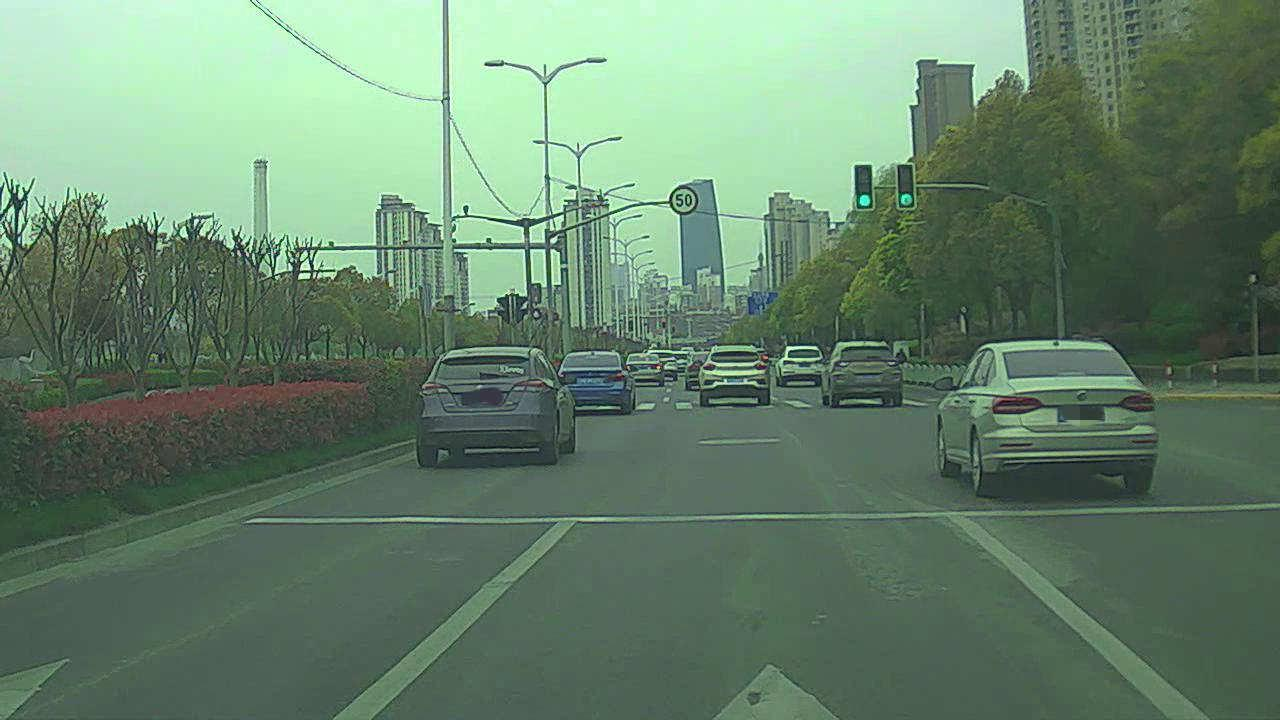traffic_light: (853, 162, 874, 212), (897, 163, 918, 212)
